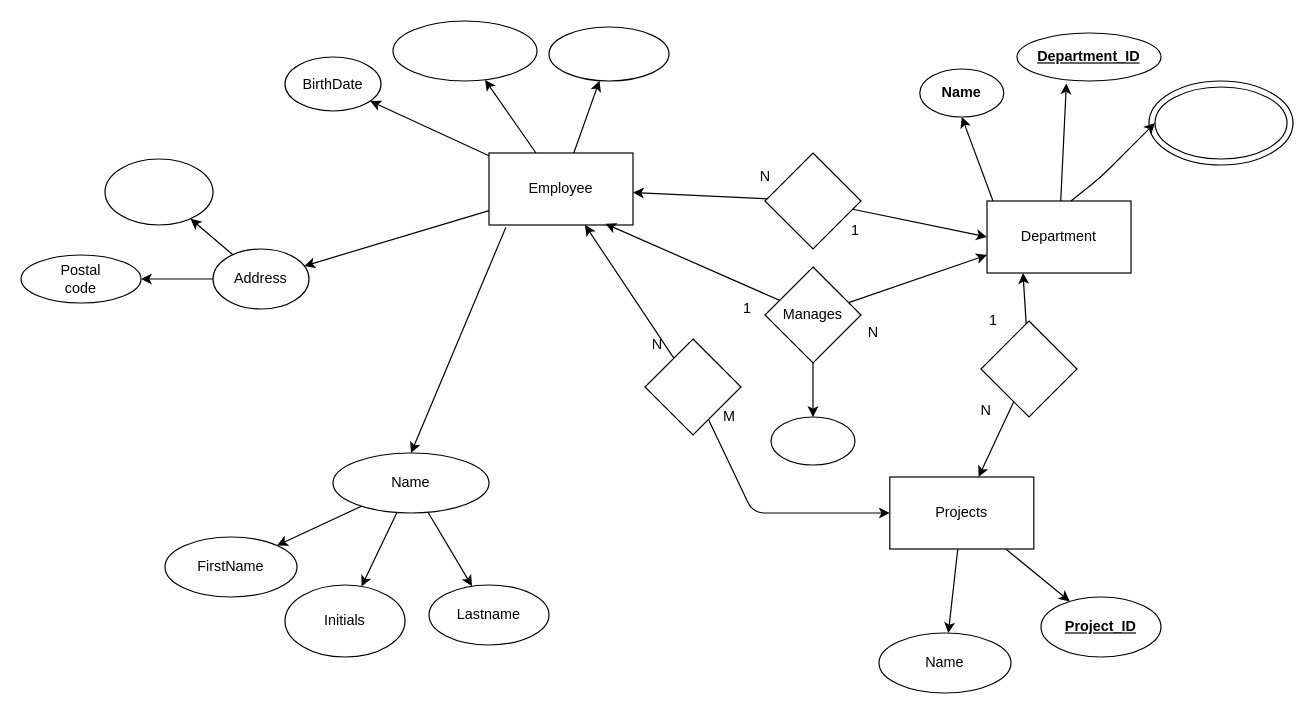
Image size: 1314x714. Some labels were removed from this diagram. Each missing label, with the box of its shape:
controls: (980, 320, 1077, 417)
Employee_ID: (392, 20, 537, 81)
Gender: (548, 26, 669, 81)
Locations: (1154, 86, 1287, 159)
Start Date: (770, 416, 855, 465)
Street: (104, 158, 213, 225)
works_for: (764, 152, 861, 249)
works_on: (644, 338, 741, 435)
